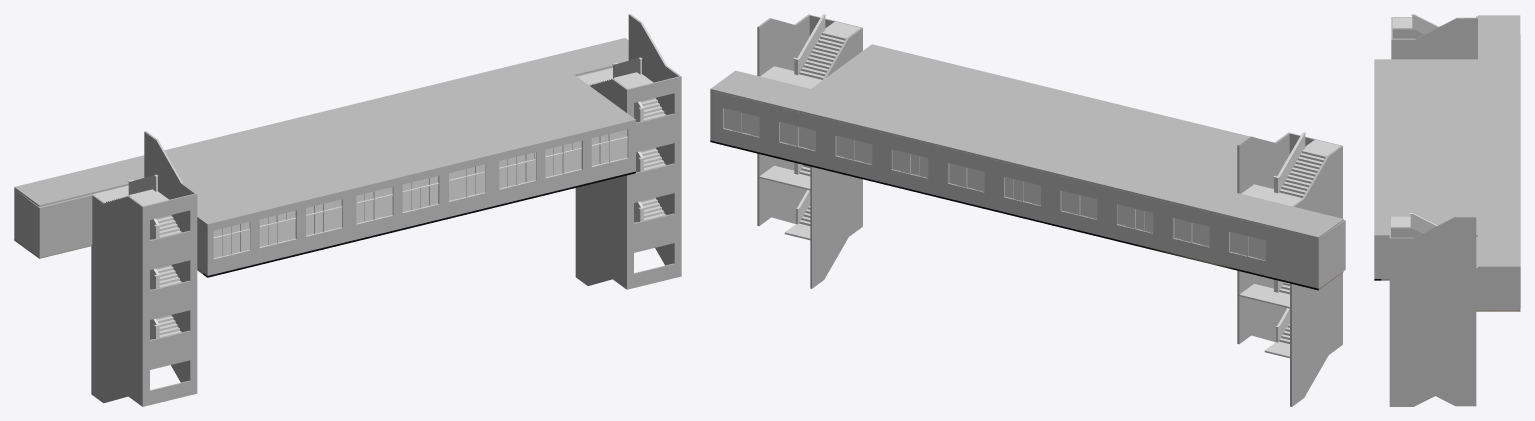
File: builing.FBX
The picture shows the model from 3 angles, left to right: view 1: azimuth 30°, elevation 25°; view 2: azimuth 150°, elevation 25°; view 3: azimuth 270°, elevation 25°; orthographic projection. The views are drawn at different scales.
Parts seen in each view (by area): view 1: Floor003, StairWall012, StairWall015, StairWall018, StairWall014, StairWall013, StairWall017, Box001, StairWall002, Box005, Box008, Object004 (+10 smaller); view 2: Floor003, Object013, wall001, wall, StairWall015, StairWall018, StairWall012, Object004, StairWall002, glass_R056, StairWall014, stair_up013 (+11 smaller); view 3: Floor003, StairWall018, StairWall002, StairWall017, StairWall016, StairWall012, Wall, Box008, stair_up006, stair_up013.
Boxes of the visible parts, left/top/right/bottom form: Floor003: left=14, top=38, right=635, bottom=225; StairWall012: left=91, top=131, right=197, bottom=256; StairWall015: left=91, top=344, right=197, bottom=406; StairWall018: left=575, top=226, right=681, bottom=289; StairWall014: left=91, top=294, right=197, bottom=356; StairWall013: left=91, top=244, right=197, bottom=306; StairWall017: left=575, top=176, right=681, bottom=239; Box001: left=197, top=191, right=350, bottom=275; StairWall002: left=590, top=14, right=681, bottom=137; Box005: left=350, top=156, right=493, bottom=240; Box008: left=493, top=121, right=635, bottom=206; Object004: left=14, top=189, right=92, bottom=257; Floor003: left=710, top=44, right=1343, bottom=238; Object013: left=1050, top=174, right=1275, bottom=278; wall001: left=882, top=132, right=1050, bottom=223; wall: left=714, top=91, right=881, bottom=182; StairWall015: left=1237, top=294, right=1342, bottom=406; StairWall018: left=757, top=176, right=862, bottom=288; StairWall012: left=1237, top=132, right=1342, bottom=213; Object004: left=1275, top=220, right=1345, bottom=288; StairWall002: left=757, top=14, right=862, bottom=80; glass_R056: left=1061, top=191, right=1265, bottom=259; StairWall014: left=1237, top=270, right=1342, bottom=356; stair_up013: left=786, top=14, right=859, bottom=88; Floor003: left=1374, top=15, right=1520, bottom=268; StairWall018: left=1389, top=343, right=1476, bottom=406; StairWall002: left=1389, top=216, right=1476, bottom=280; StairWall017: left=1389, top=301, right=1476, bottom=364; StairWall016: left=1389, top=259, right=1476, bottom=322; StairWall012: left=1391, top=17, right=1477, bottom=59; Wall: left=1476, top=266, right=1520, bottom=310; Box008: left=1374, top=237, right=1389, bottom=278; stair_up006: left=1392, top=14, right=1439, bottom=34; stair_up013: left=1391, top=213, right=1437, bottom=233.
Size of the model in its own units: 3959 by 1545 by 971.
